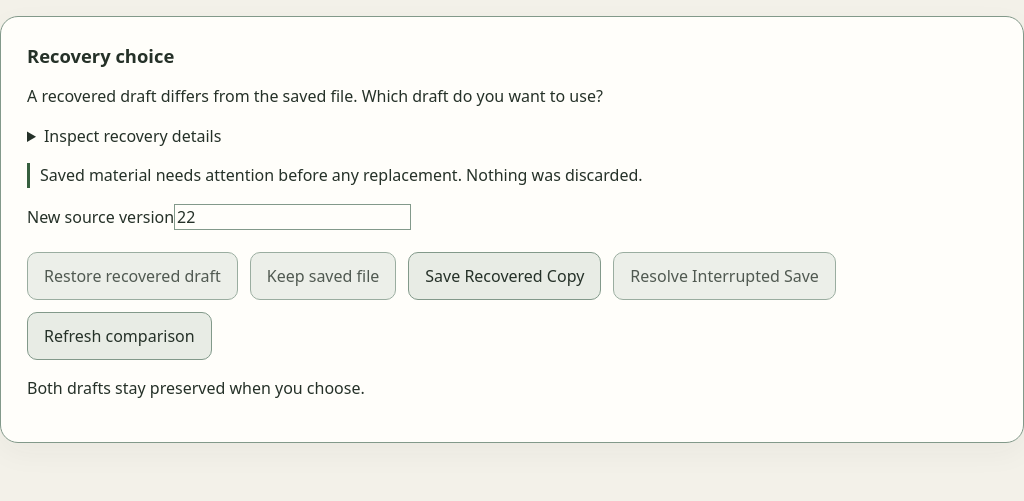
it: explicit recovery choices › retains emergency copying for read-only malformed or missing-source review
Expected: the button "Restore recovered draft" is disabled, [27,252,238,300]
Expected: the button "Keep saved file" is disabled, [250,252,396,300]
Click the button "Save Recovered Copy" at (505, 276), box [408,252,601,300]
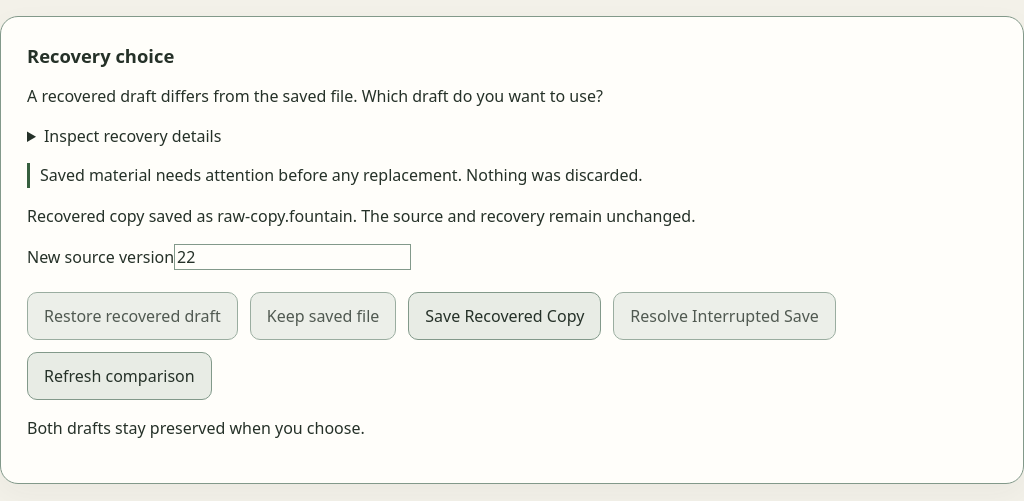
Expected: the text "Recovered copy saved as raw-copy.fountain" is shown, [27,205,695,227]
